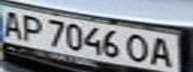0: (63, 21, 84, 52)
4: (81, 25, 106, 56)
6: (100, 28, 124, 60)
7: (42, 17, 66, 48)
A: (148, 34, 178, 69), (0, 8, 27, 39)
O: (124, 31, 151, 64)
P: (15, 12, 48, 43)
